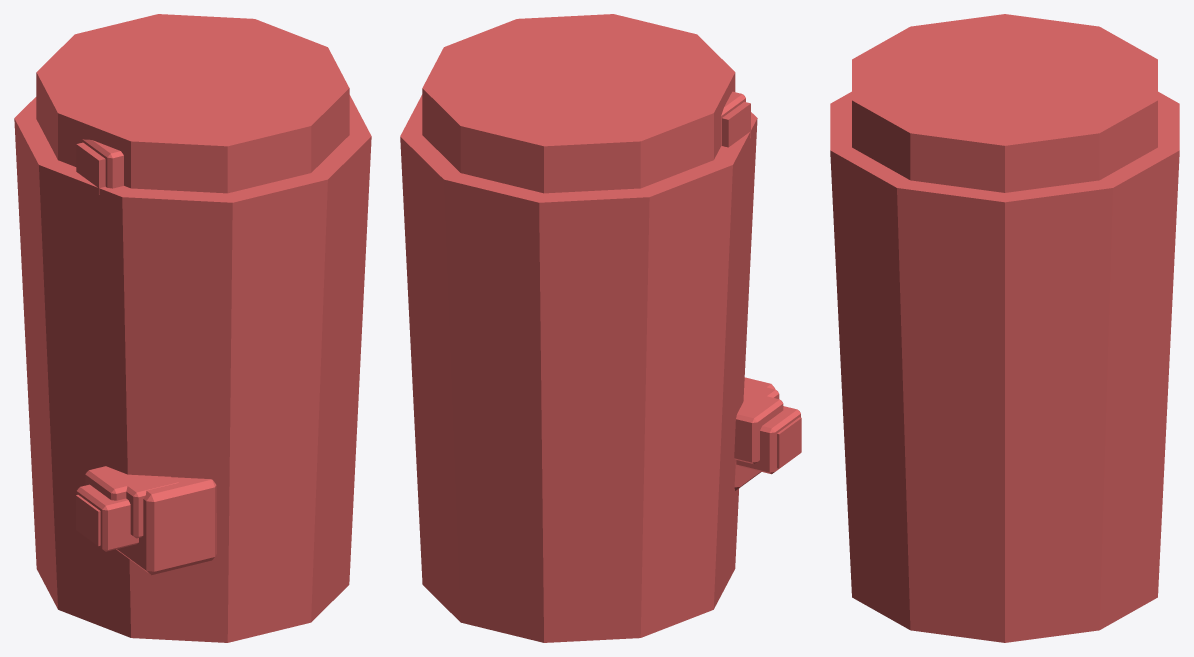
File: b16_discarded_apple_core.glb
The picture shows the model from 3 angles, left to right: view 1: azimuth 30°, elevation 25°; view 2: azimuth 150°, elevation 25°; view 3: azimuth 270°, elevation 25°; orthographic projection.
Parts seen in each view (by area): view 1: b16_discarded_apple_core; view 2: b16_discarded_apple_core; view 3: b16_discarded_apple_core.
Part boxes in pixels (x1,y1,x2,y2): b16_discarded_apple_core: [14, 14, 371, 642]; b16_discarded_apple_core: [400, 14, 801, 642]; b16_discarded_apple_core: [830, 14, 1179, 642].
Bounding box in the file's own units: 0.06 × 0.091 × 0.058.
